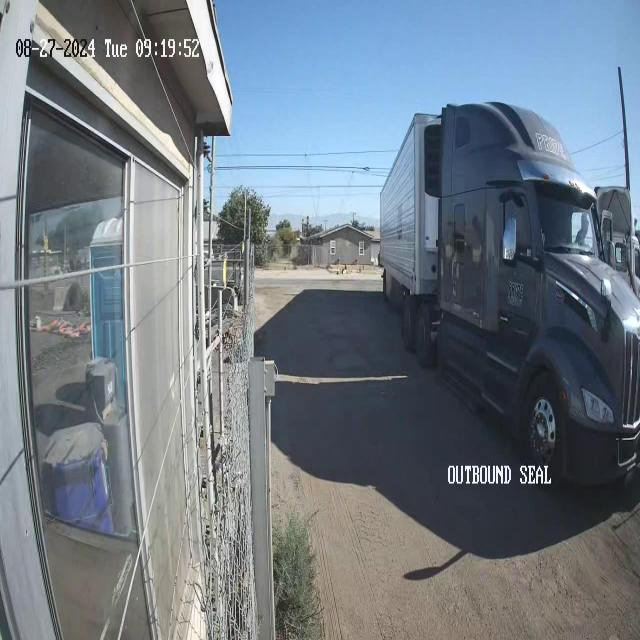CONTAINER: (378, 112, 440, 301)
